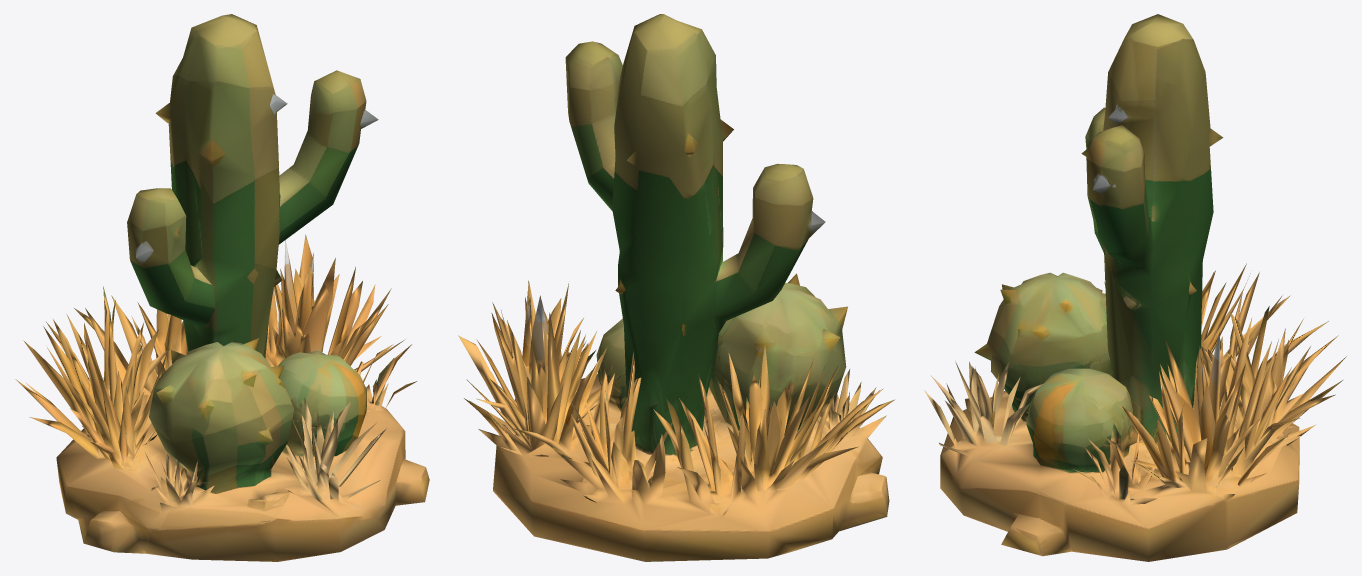
File: irrhakur_cactus_2.glb
3 renders of one model, left to right at view 1: azimuth 30°, elevation 25°; view 2: azimuth 150°, elevation 25°; view 3: azimuth 270°, elevation 25°, orthographic. The views are drawn at different scales.
Parts seen in each view (by area): view 1: Mesh_0; view 2: Mesh_0; view 3: Mesh_0.
Part boxes in pixels (box(x1,y1,x2,y2)): Mesh_0: box(15, 14, 429, 561); Mesh_0: box(458, 14, 894, 561); Mesh_0: box(924, 14, 1346, 561).
Size of the model in its own units: 1.59 by 1.91 by 1.58.
1 material, 1 textured.
